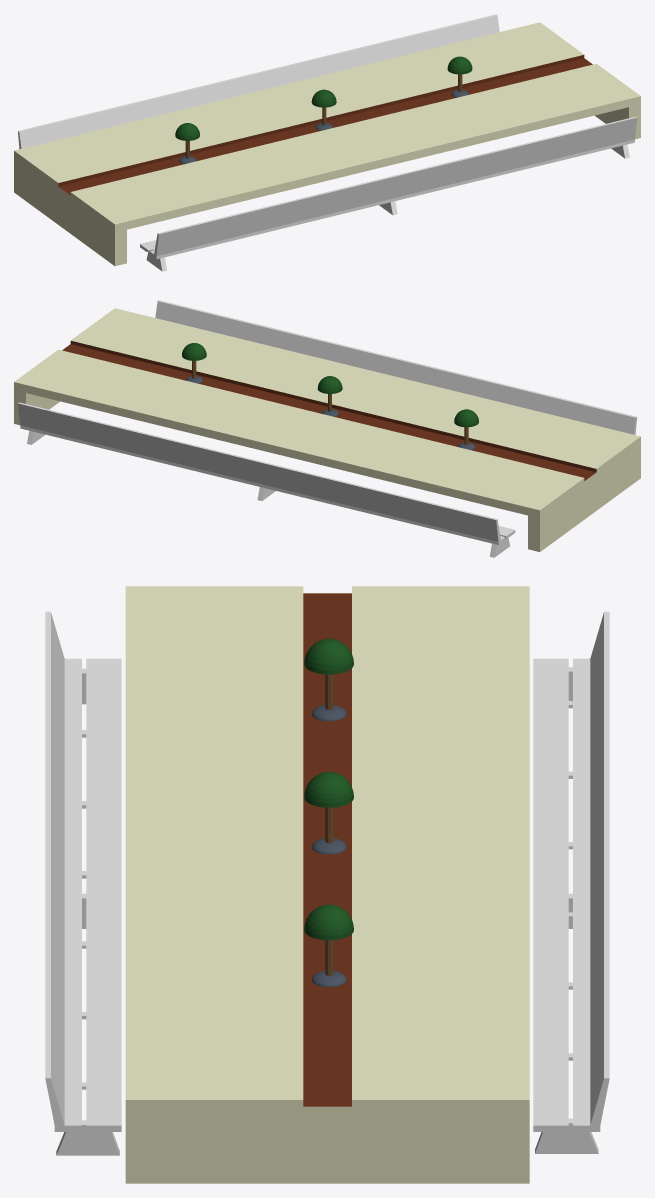
Rendered from Desk.fbx.
The picture shows the model from 3 angles, top to bottom: view 1: azimuth 30°, elevation 25°; view 2: azimuth 150°, elevation 25°; view 3: azimuth 270°, elevation 25°; orthographic projection. The views are drawn at different scales.
Parts seen in each view (by area): view 1: Desk; view 2: Desk; view 3: Desk.
Part boxes in pixels (x1,y1,x2,y2): Desk: [14, 14, 640, 271]; Desk: [14, 300, 640, 557]; Desk: [45, 586, 609, 1183].
Size of the model in its own units: 8.76 by 1.19 by 4.07.
